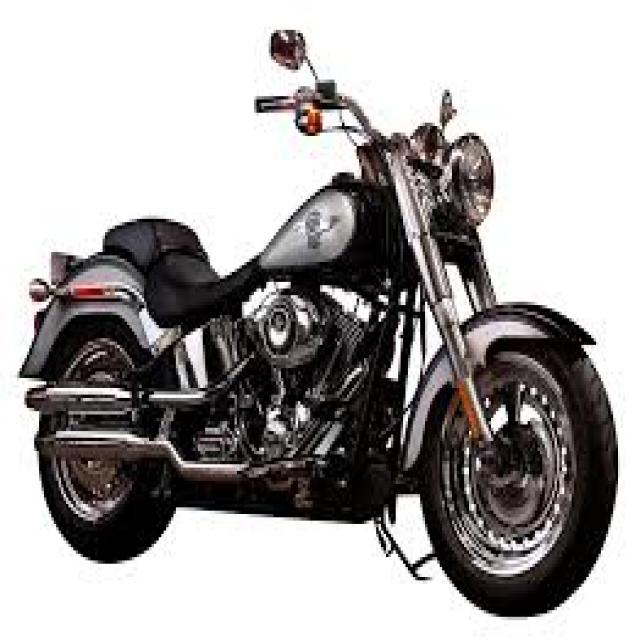Bike: (16, 28, 618, 619)
